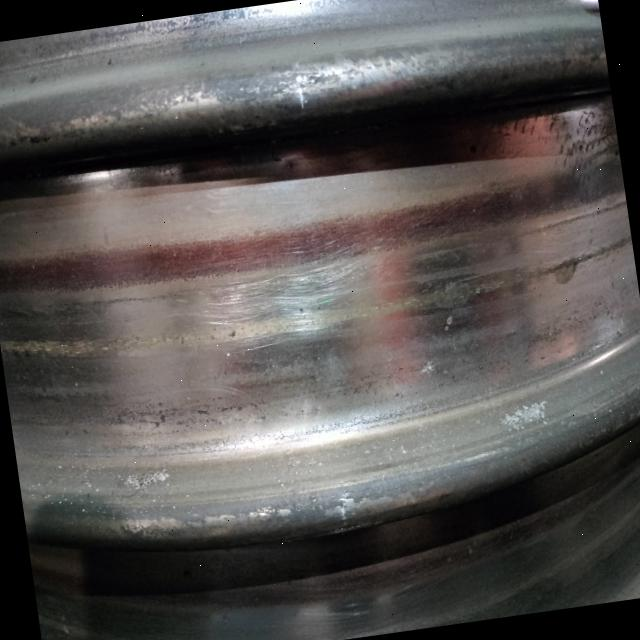flat: (143, 241, 383, 369)
